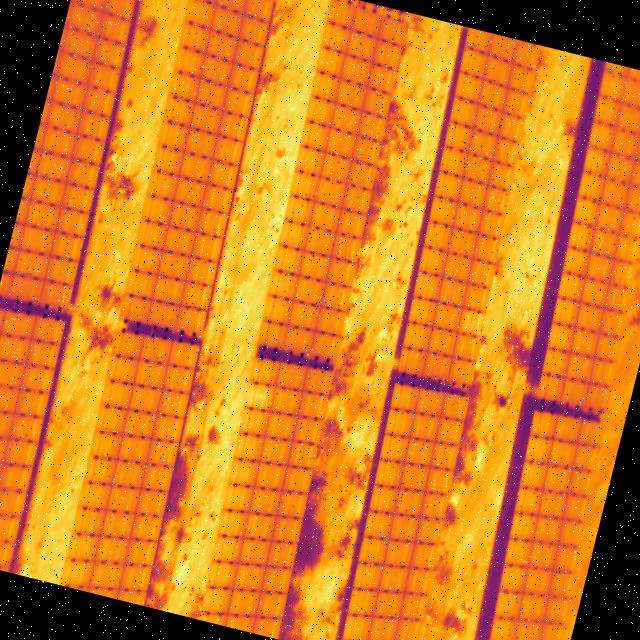Hotspot: (247, 388, 267, 402)
